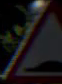Speed Breaker ahead: (18, 13, 59, 75)
